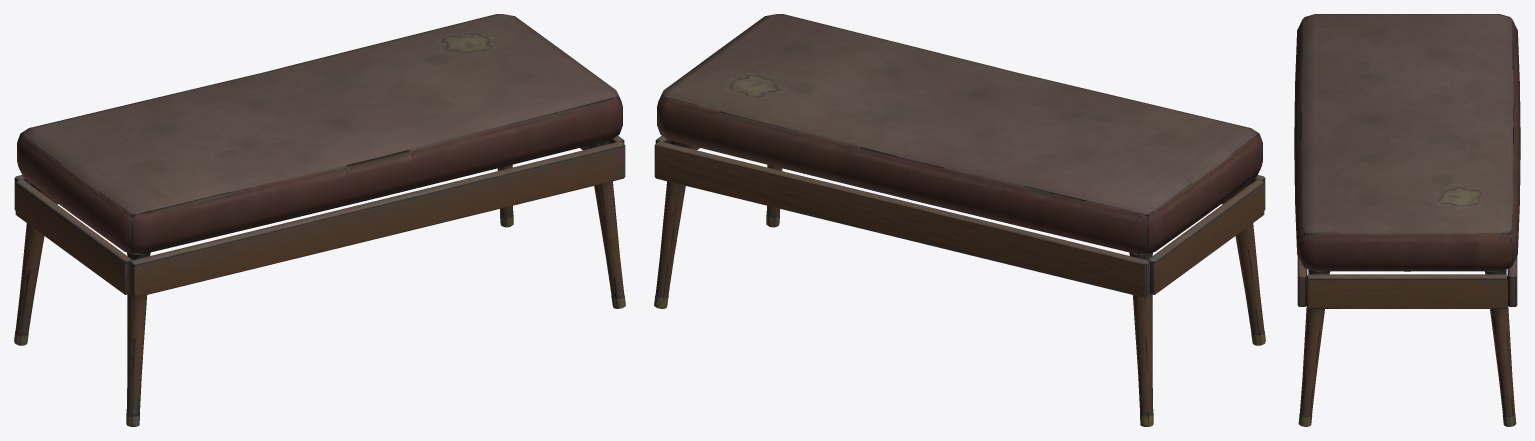
File: furniture_bench.glb
3 views of the same model, side by side, from view 1: azimuth 30°, elevation 25°; view 2: azimuth 150°, elevation 25°; view 3: azimuth 270°, elevation 25° (orthographic). The views are drawn at different scales.
Visible parts, largest first — view 1: furniture_bench; view 2: furniture_bench; view 3: furniture_bench.
Boxes of the visible parts, x1=… form: furniture_bench: x1=14, y1=14, x2=625, y2=426; furniture_bench: x1=654, y1=14, x2=1265, y2=426; furniture_bench: x1=1294, y1=14, x2=1520, y2=426.
Size of the model in its own units: 1.21 by 0.5 by 0.5142.
Materials: 1 (1 with a texture image).
